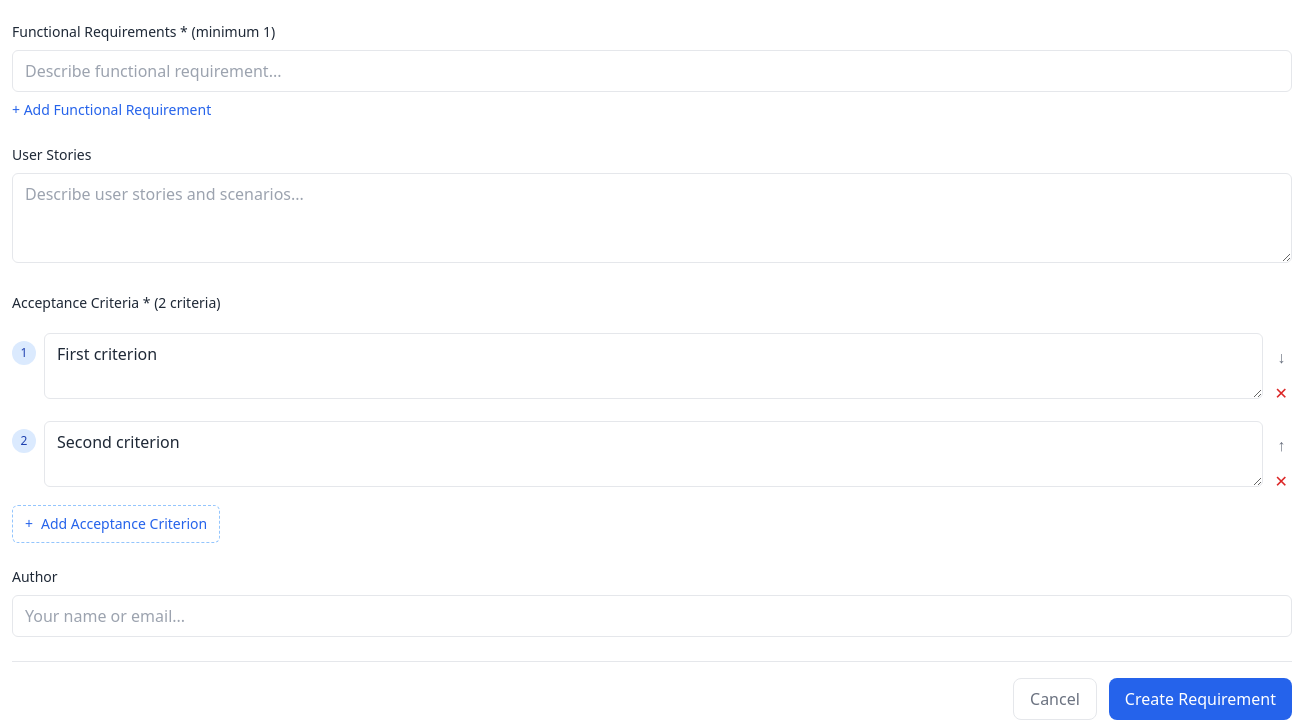
Test: RequirementForm - Acceptance Criteria Management › Reordering Criteria › should move criterion up with Ctrl+ArrowUp keyboard shortcut
(page scrolled)
Step 1. Click the 2nd text box with placeholder "Given [context], when [action], then [outcome]..." → (653, 454), box [44,421,1263,487]
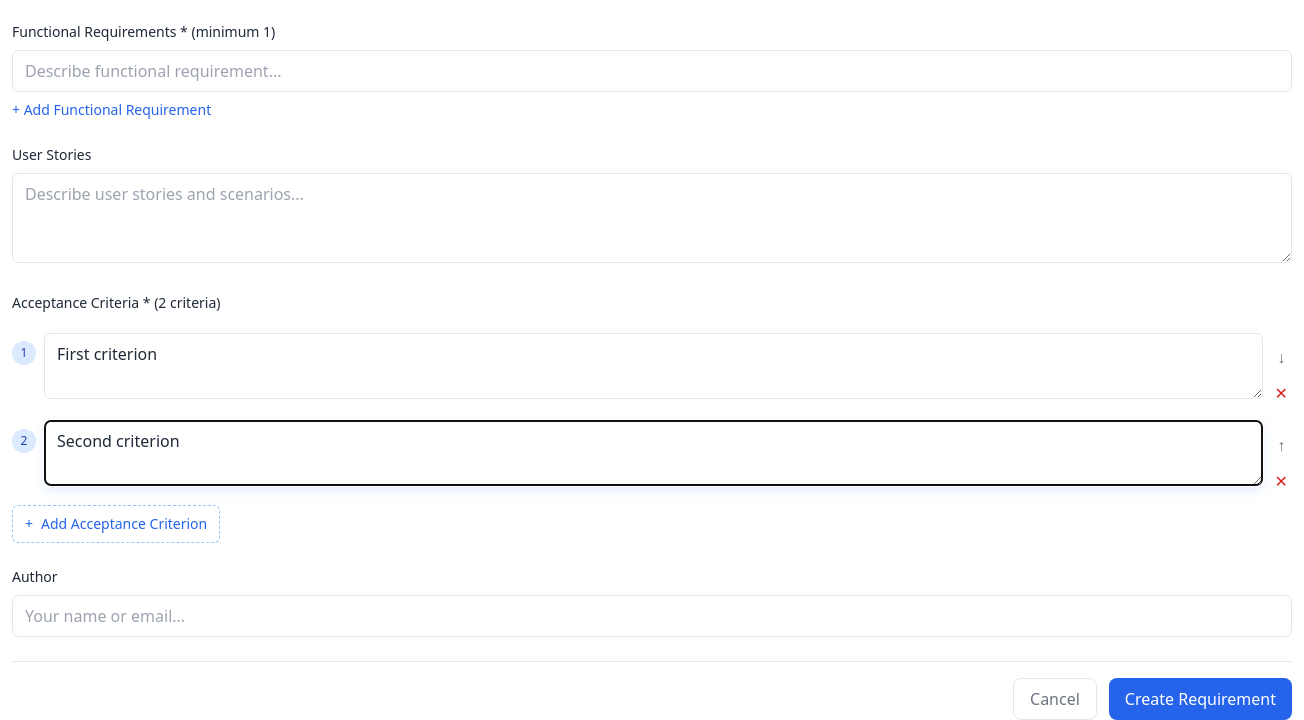
Step 2. Type keys "{Control>}{ArrowUp}{/Control}"
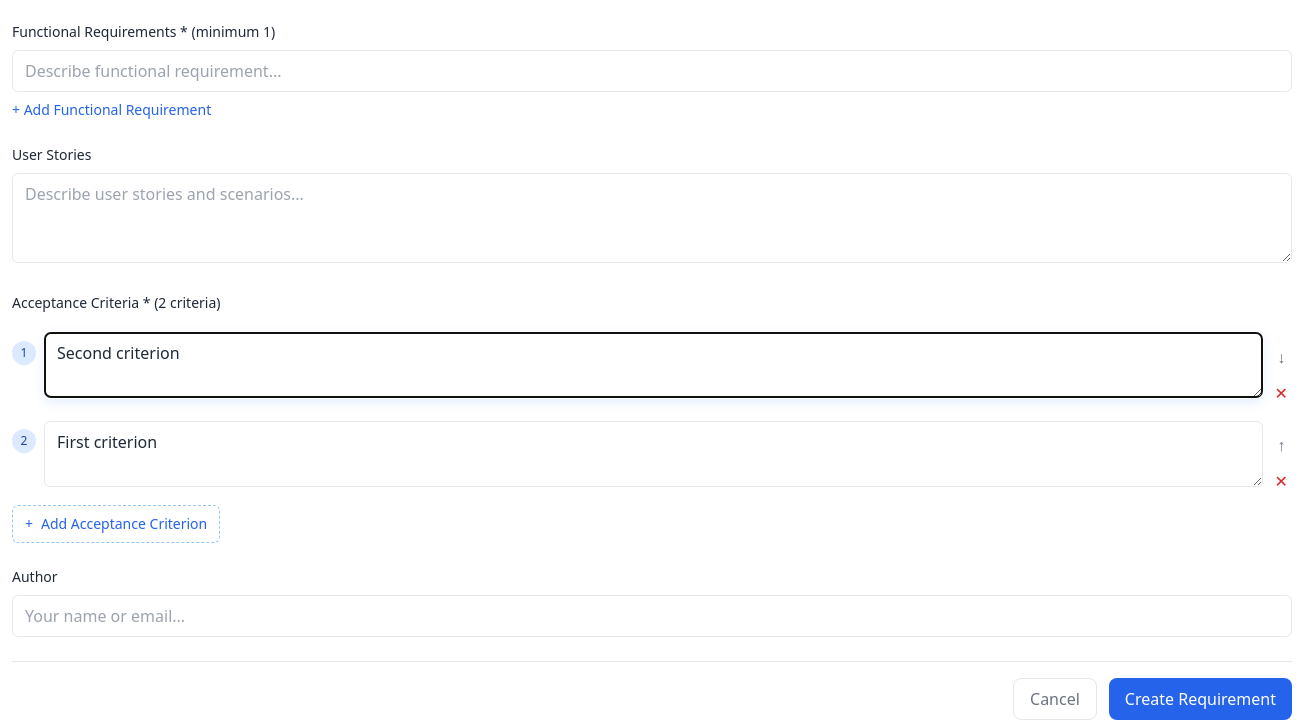
Now the 1st text box with placeholder "Given [context], when [action], then [outcome]..." holds "Second criterion", box [44,332,1263,398]
Now the 2nd text box with placeholder "Given [context], when [action], then [outcome]..." holds "First criterion", box [44,421,1263,487]
